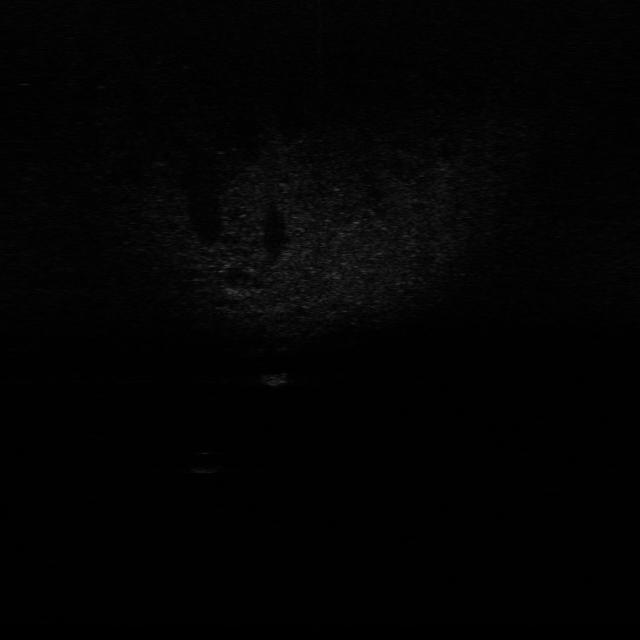ball: (188, 444, 231, 476)
cube: (254, 366, 294, 389)
